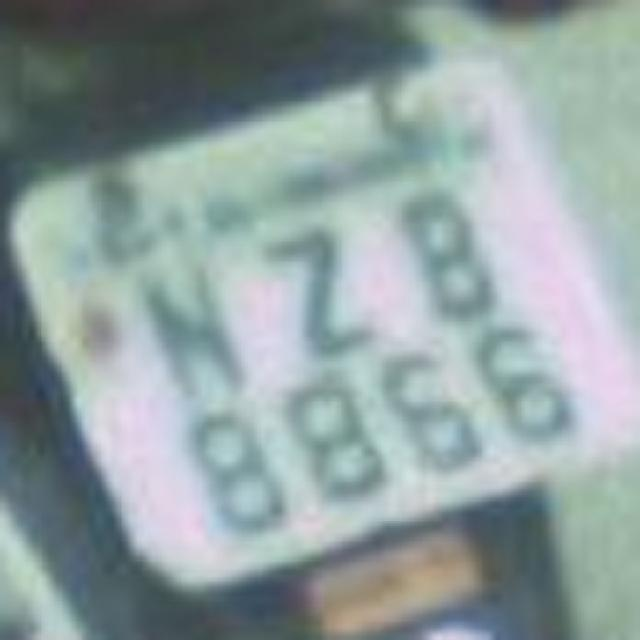5: (356, 328, 492, 480)
6: (444, 304, 591, 456)
8: (264, 356, 404, 516), (168, 384, 304, 544)
B: (380, 176, 520, 336)
N: (120, 236, 255, 416)
Z: (252, 208, 380, 360)
